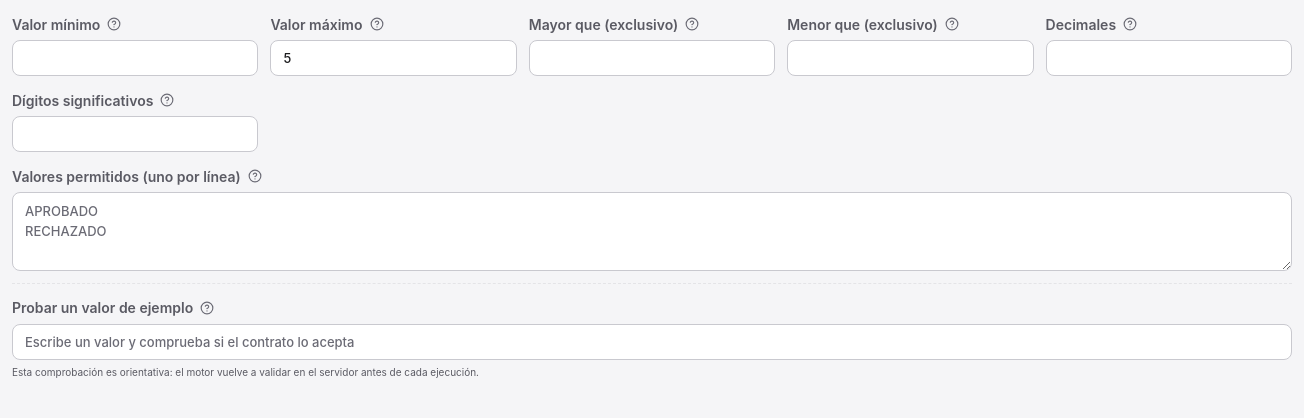
Test case: ConstraintEditor › confirma cuando el ejemplo sí cumple
Type "3" into the field labelled "Probar un valor de ejemplo" at (652, 342), box [12, 324, 1292, 360]
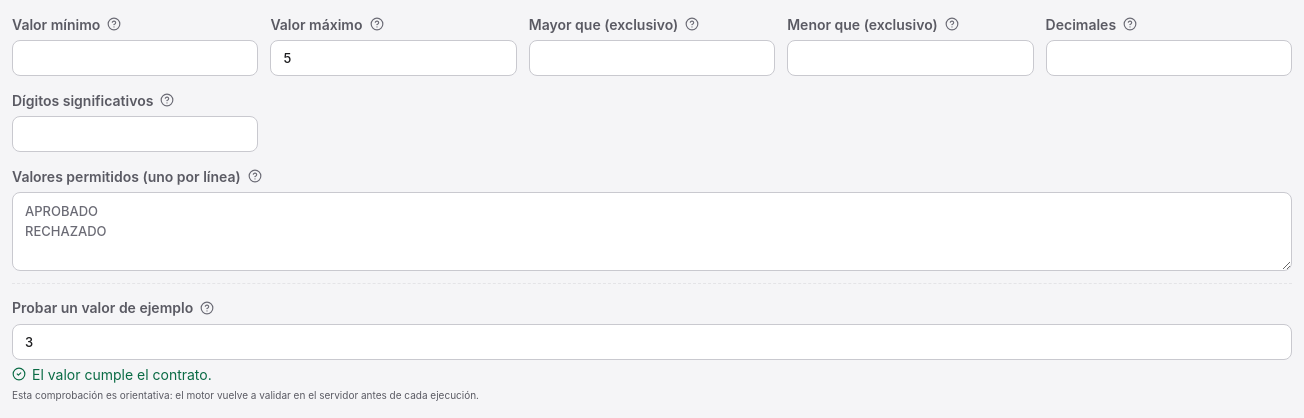
Now the text "El valor cumple el contrato." is shown, box [12, 366, 212, 382]
